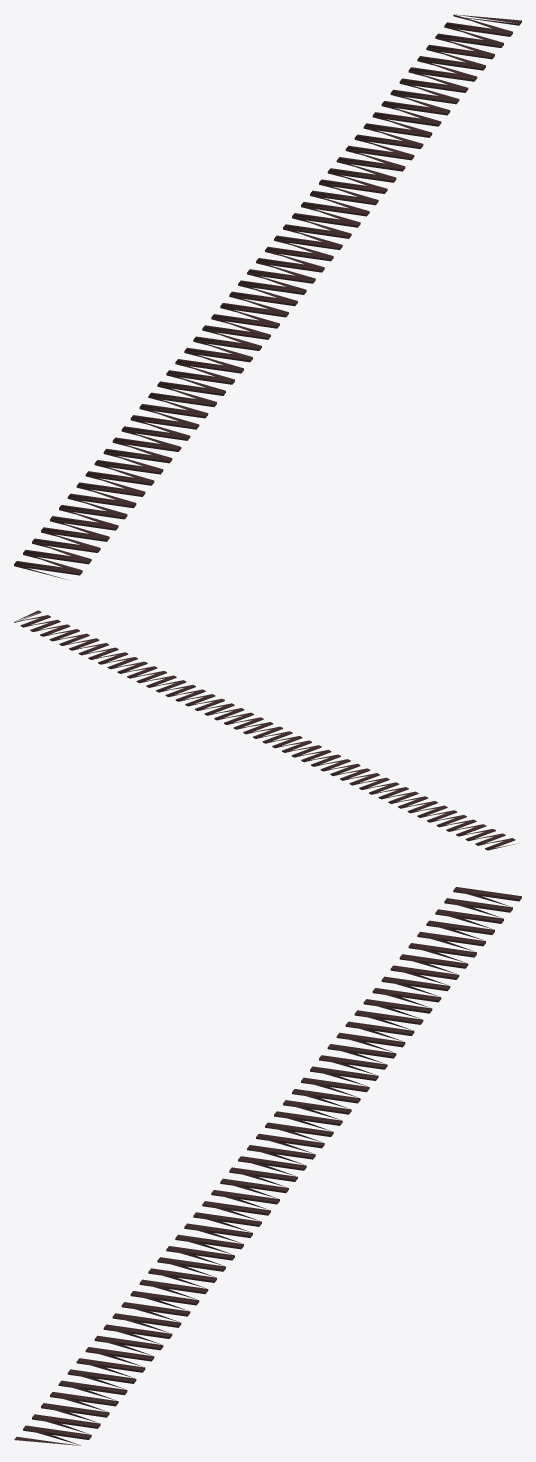
3 views of the same model, one above another, from view 1: azimuth 90°, elevation 25°; view 2: azimuth 150°, elevation 25°; view 3: azimuth 270°, elevation 25° (orthographic). The views are drawn at different scales.
Size of the model in its own units: 41.14 by 0.064 by 15.57.
